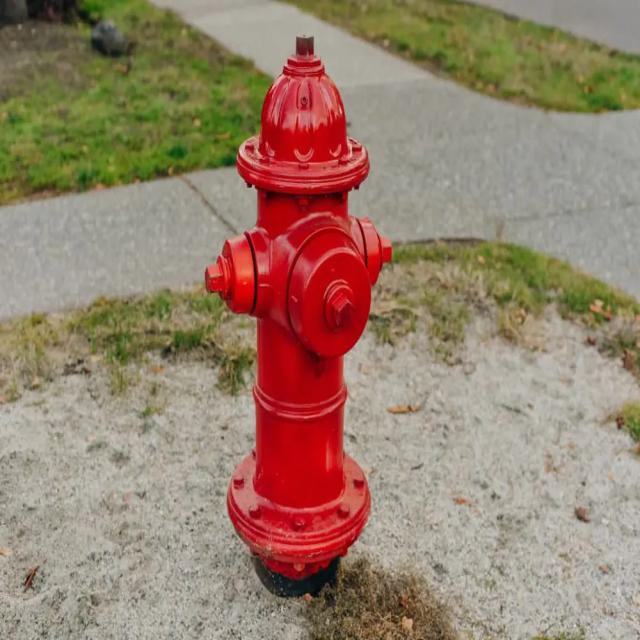fire_hydrant: (217, 33, 392, 562)
